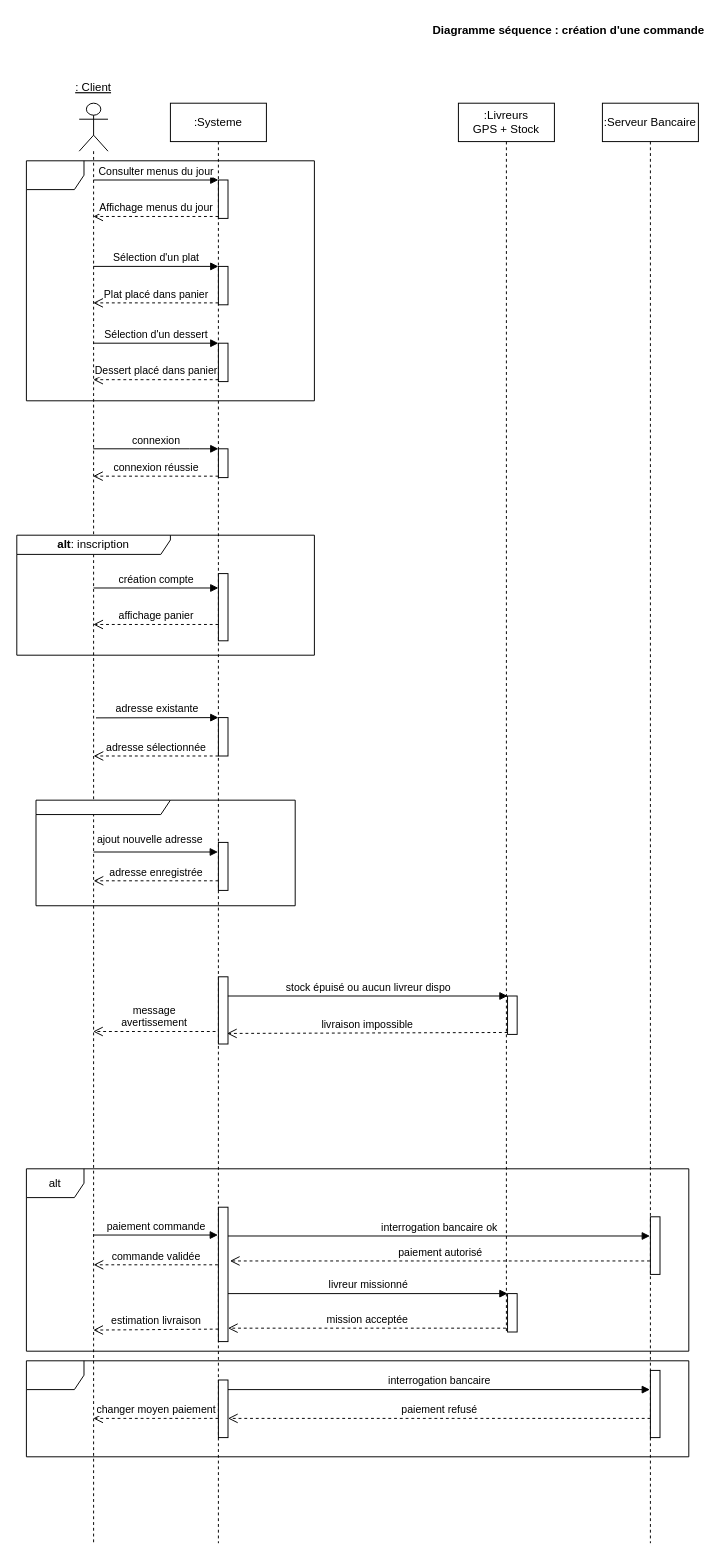
Image size: 722x1560. Some labels were removed from this diagram. The centre of each missing label's shape, as x and y in pixels:
"alt : adresse livraison" goes at [165,852].
"else" goes at [357,1408].
"loop" goes at [169,280].
